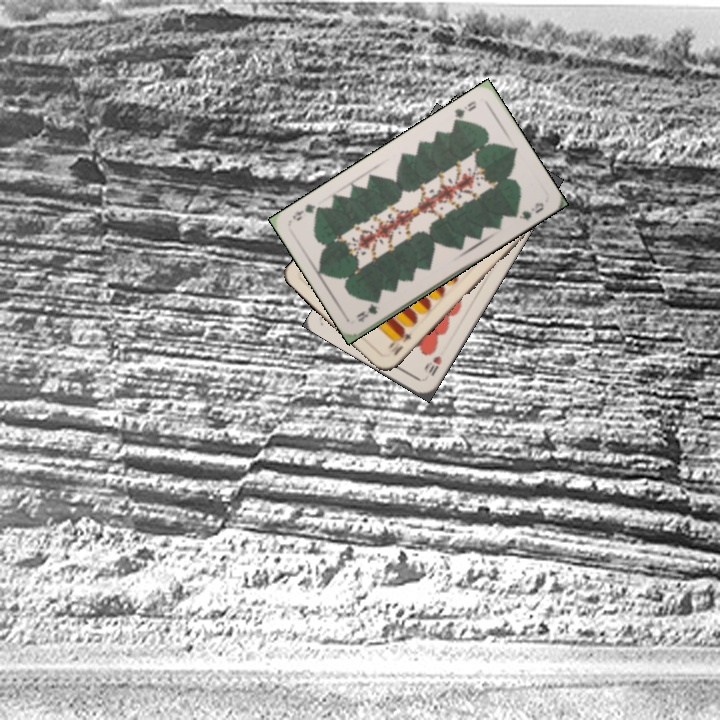E10: (389, 325, 416, 358)
G9: (449, 97, 479, 127), (352, 301, 380, 325)
H10: (424, 351, 445, 379)
